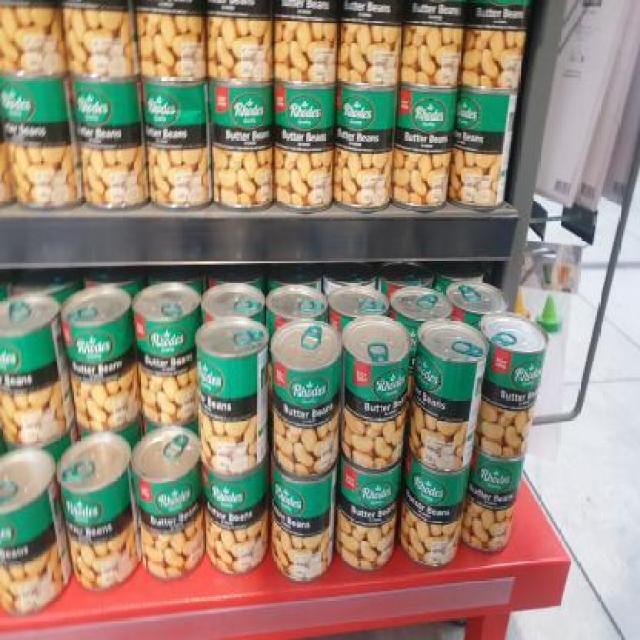Beans: (70, 82, 142, 135), (142, 86, 212, 140), (270, 365, 342, 417), (0, 77, 69, 131), (64, 323, 130, 379), (272, 84, 340, 138), (343, 355, 411, 408), (268, 472, 334, 525), (209, 84, 277, 134), (56, 495, 126, 542), (133, 316, 198, 366), (133, 479, 204, 524), (195, 356, 259, 404), (204, 472, 264, 522), (485, 348, 544, 398), (343, 466, 402, 516), (398, 90, 458, 138), (338, 89, 398, 136), (406, 470, 466, 513), (454, 91, 509, 135), (470, 454, 521, 498)
